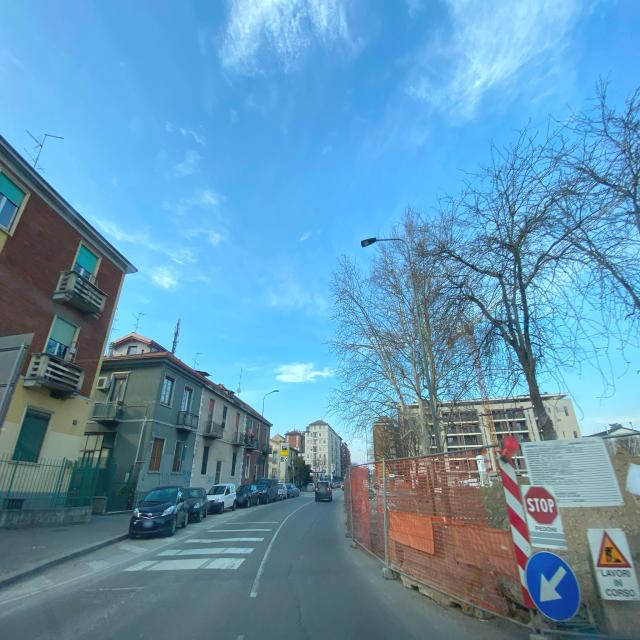car: (128, 485, 189, 539), (206, 483, 237, 514), (182, 486, 208, 522), (236, 483, 260, 507), (257, 478, 278, 502), (256, 482, 274, 503), (315, 481, 332, 502), (278, 482, 288, 499)
